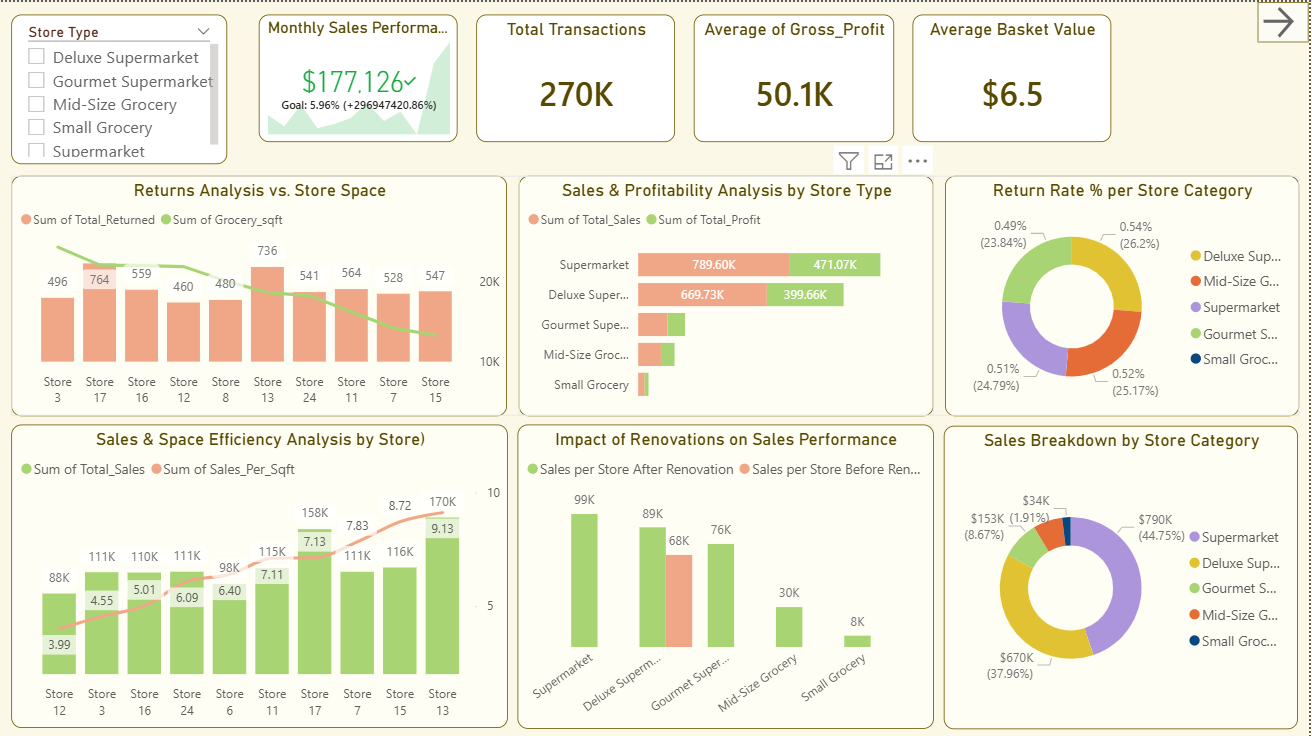

Layout of this report page (visuals, bound fields, positions):
{"tool":"powerbi","page":{"name":"Store Performance","canvas":[1280,720],"ordinal":2},"visuals":[{"type":"slicer","title":"Select Region","fields":{"Values":["Dim_Stores.Store_type"]},"box":[10.5,11.6,210.8,146.8],"z":0},{"type":"group","id":"g1","title":"Group 3","box":[252.8,11.6,834.1,124.6],"z":1000},{"type":"actionButton","box":[1229.9,0,50.1,39.6],"z":2000},{"type":"cardVisual","title":"Average of Gross_Profit","fields":{"Data":["Avg(vw_Regional_Performance_Insights.Gross_Profit)"]},"box":[678.4,11.6,195.7,124.6],"z":2000,"group":"g1"},{"type":"donutChart","title":"Return Rate % per Store Category","fields":{"Category":["Dim_Stores.Store_type"],"Y":["Dax_Measures.Return Rate %"]},"box":[923.3,169.8,346.5,235],"z":2000,"group":"g3"},{"type":"group","id":"g2","title":"Group 1","box":[11.2,413.2,1258.5,297.5],"z":3000},{"type":"donutChart","title":"Sales Breakdown by Store Category","fields":{"Category":["Dim_Stores.Store_type"],"Y":["Dax_Measures.Total Sales"]},"box":[923.2,414.2,346.5,296.5],"z":3000,"group":"g2"},{"type":"cardVisual","title":"Average Basket Value","fields":{"Data":["Dax_Measures.Average Basket Value"]},"box":[892.3,11.6,194.5,124.6],"z":4000,"group":"g1"},{"type":"group","id":"g3","title":"Group 2","box":[10.5,169.8,1259.3,235.1],"z":4000},{"type":"barChart","title":"Sales & Profitability Analysis by Store Type","fields":{"Category":["vw_Store_Efficiency.Store_type"],"Y":["Sum(vw_Store_Efficiency.Total_Sales)","Sum(vw_Store_Efficiency.Total_Profit)"]},"box":[506.4,169.9,405.8,235],"z":4000,"group":"g3"},{"type":"cardVisual","title":"Total Transactions","fields":{"Data":["Dax_Measures.Total Transactions"]},"box":[465.6,11.6,194.5,124.6],"z":5000,"group":"g1"},{"type":"kpi","title":"Monthly Sales Performance","fields":{"Indicator":["Dax_Measures.Total Sales"],"Goal":["Dax_Measures.MoM Growth %"],"TrendLine":["Dim_Calendar.Month"]},"box":[252.8,11.6,194.5,124.6],"z":6000,"group":"g1"},{"type":"lineClusteredColumnComboChart","title":"Returns Analysis vs. Store Space","fields":{"Category":["vw_Total_Returns_By_Store.store_name"],"Y":["Sum(vw_Total_Returns_By_Store.Total_Returned)"],"Y2":["Sum(vw_Store_Efficiency.Grocery_sqft)"]},"box":[10.5,169.9,485,235],"z":6000,"group":"g3"},{"type":"lineClusteredColumnComboChart","title":"Sales & Space Efficiency Analysis by Store)","fields":{"Y2":["Sum(vw_Store_Efficiency.Sales_Per_Sqft)"],"Category":["vw_Store_Efficiency.Store_name"],"Y":["Sum(vw_Store_Efficiency.Total_Sales)"]},"box":[11.2,413.7,485.4,297],"z":8000,"group":"g2"},{"type":"clusteredColumnChart","title":"Impact of Renovations on Sales Performance","fields":{"Y":["Dax_Measures.Sales per Store After Renovation","Dax_Measures.Sales per Store Before Renovation"],"Category":["Dim_Stores.Store_type"]},"box":[506.5,413.2,406.9,297.5],"z":9000,"group":"g2"}]}

Visuals, with their boxes in screenshot pixels (x1, y1, x2, y2), scaled from the page's 1280x720 canvas onto the 1312x736 screenshot:
"Select Region" slicer: Rect(11, 12, 227, 162)
"Group 3" group: Rect(259, 12, 1114, 139)
actionButton: Rect(1261, 0, 1311, 40)
"Average of Gross_Profit" cardVisual: Rect(695, 12, 896, 139)
"Return Rate % per Store Category" donutChart: Rect(946, 174, 1302, 414)
"Group 1" group: Rect(11, 422, 1301, 726)
"Sales Breakdown by Store Category" donutChart: Rect(946, 423, 1301, 726)
"Average Basket Value" cardVisual: Rect(915, 12, 1114, 139)
"Group 2" group: Rect(11, 174, 1302, 414)
"Sales & Profitability Analysis by Store Type" barChart: Rect(519, 174, 935, 414)
"Total Transactions" cardVisual: Rect(477, 12, 677, 139)
"Monthly Sales Performance" kpi: Rect(259, 12, 458, 139)
"Returns Analysis vs. Store Space" lineClusteredColumnComboChart: Rect(11, 174, 508, 414)
"Sales & Space Efficiency Analysis by Store)" lineClusteredColumnComboChart: Rect(11, 423, 509, 726)
"Impact of Renovations on Sales Performance" clusteredColumnChart: Rect(519, 422, 936, 726)
